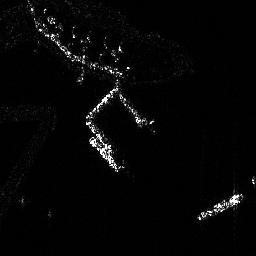ship: (196, 191, 244, 222), (86, 136, 122, 173)
